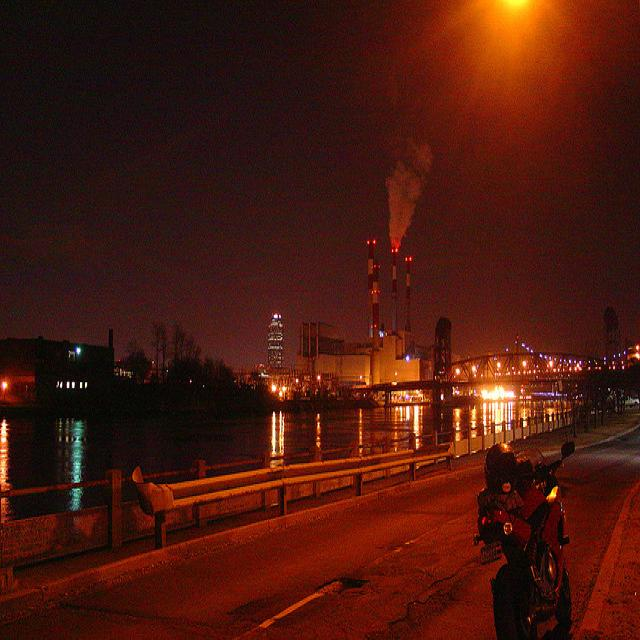Motorbike: (471, 421, 575, 640)
